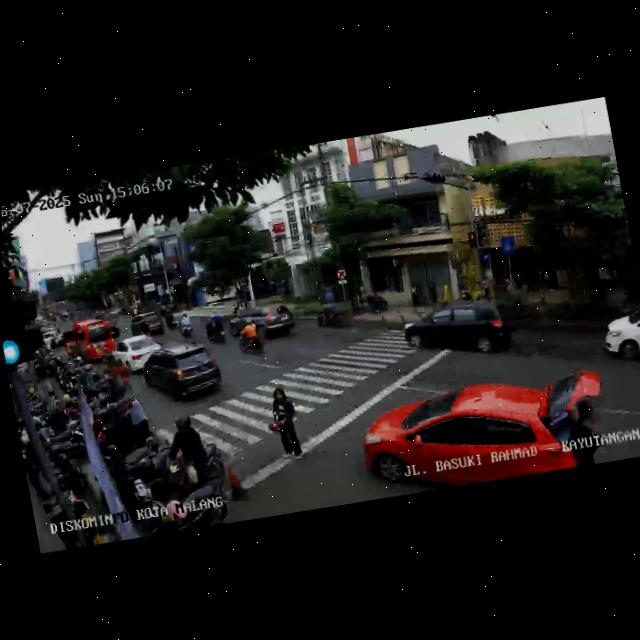car: (353, 360, 614, 503), (402, 291, 519, 370), (140, 341, 226, 410), (231, 297, 298, 346), (595, 302, 640, 374), (59, 316, 116, 368), (108, 327, 168, 376), (128, 308, 167, 339), (38, 321, 61, 345)
motorcycle: (138, 406, 230, 503), (234, 313, 267, 357), (202, 313, 228, 347), (175, 309, 193, 340)
person: (261, 383, 307, 468), (559, 395, 606, 467)
